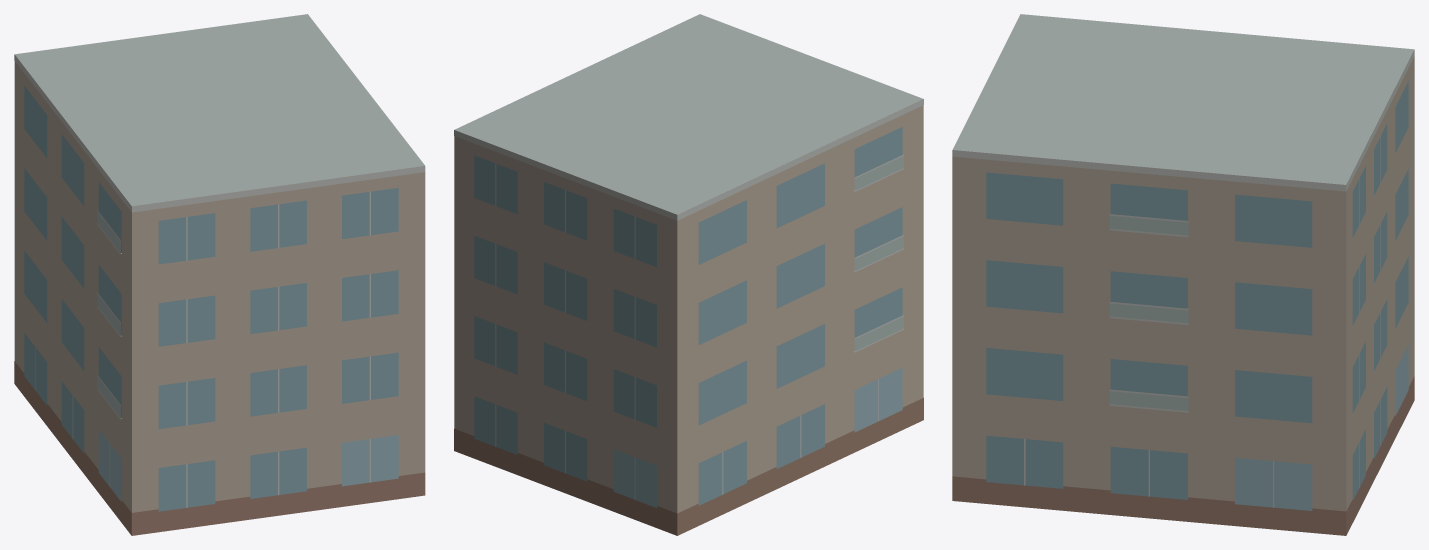
Rendered from survey-upis-32659187.glb.
3 renders of one model, left to right at view 1: azimuth 30°, elevation 25°; view 2: azimuth 150°, elevation 25°; view 3: azimuth 270°, elevation 25°, orthographic. The views are drawn at different scales.
Parts seen in each view (by area): view 1: survey-upis-32659187.tmp; view 2: survey-upis-32659187.tmp; view 3: survey-upis-32659187.tmp.
Boxes of the visible parts, left/top/right/bottom form: survey-upis-32659187.tmp: left=14, top=14, right=425, bottom=535; survey-upis-32659187.tmp: left=454, top=14, right=923, bottom=535; survey-upis-32659187.tmp: left=952, top=14, right=1414, bottom=535.
Bounding box in the file's own units: 13.58 × 12.99 × 15.52.
